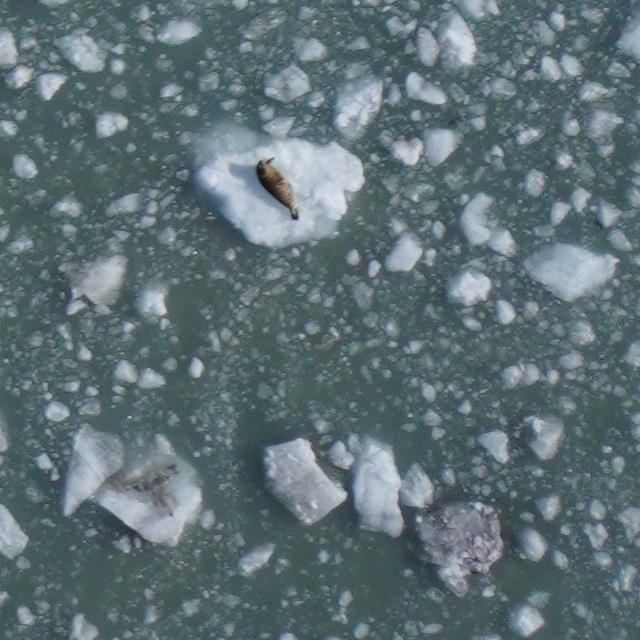seal: (249, 151, 310, 232)
